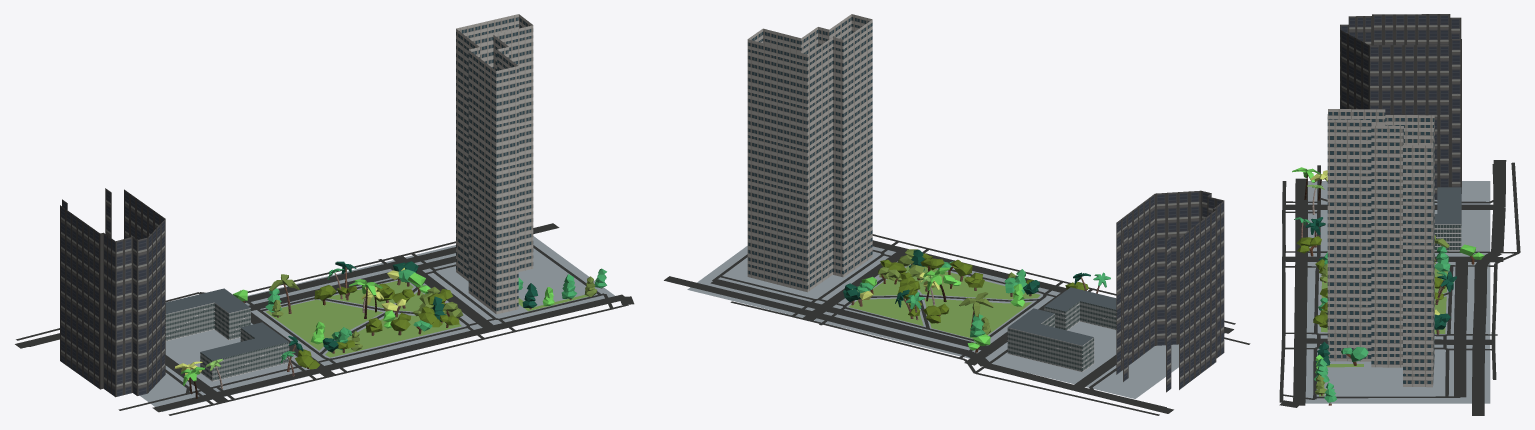
File: BC_Env4.fbx
3 renders of one model, left to right at view 1: azimuth 30°, elevation 25°; view 2: azimuth 150°, elevation 25°; view 3: azimuth 270°, elevation 25°, orthographic. The views are drawn at different scales.
Visible parts, largest first — view 1: BC_Env4; view 2: BC_Env4; view 3: BC_Env4.
Part boxes in pixels (x1,y1,x2,y2): BC_Env4: (15,14,634,415); BC_Env4: (664,14,1250,415); BC_Env4: (1279,14,1520,415).
Bounding box in the file's own units: 9201 × 4113 × 3665.
